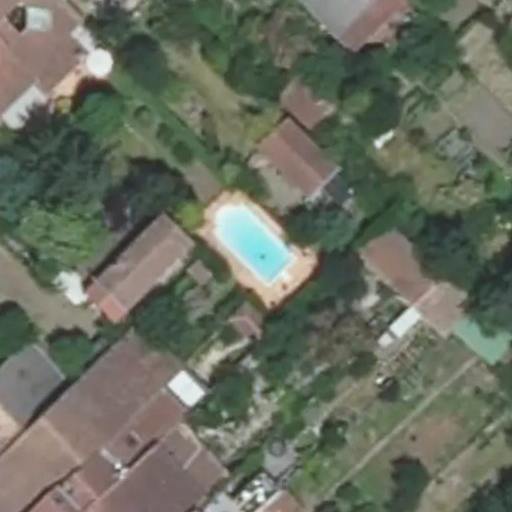pool: (208, 220, 295, 255)
